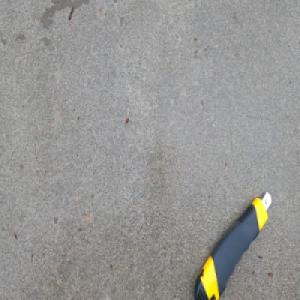Cutter: (192, 186, 272, 299)
